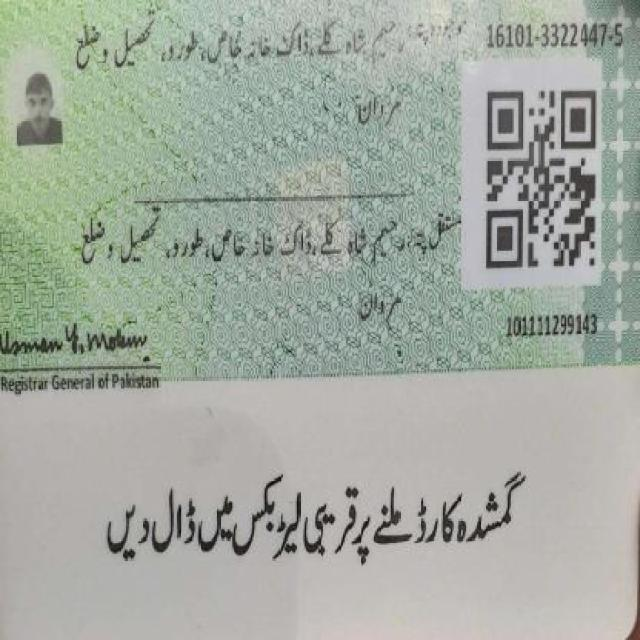Back: (14, 2, 634, 620)
